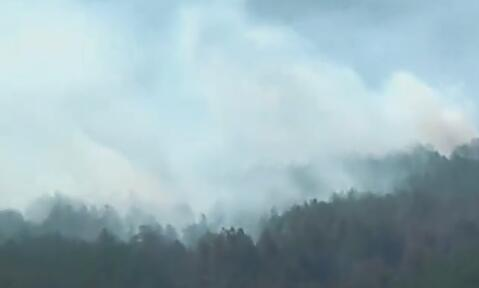yanwu: (3, 1, 479, 220)
